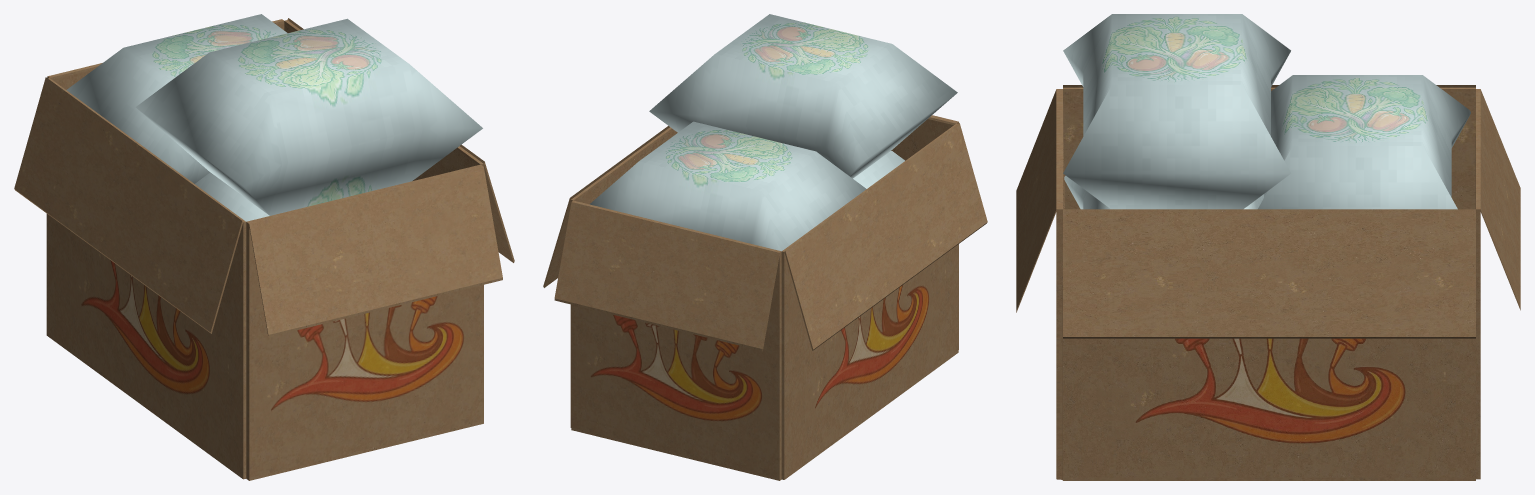
Rendered from LettuceBox.fbx.
3 renders of one model, left to right at view 1: azimuth 30°, elevation 25°; view 2: azimuth 150°, elevation 25°; view 3: azimuth 270°, elevation 25°, orthographic. The views are drawn at different scales.
Parts seen in each view (by area): view 1: Tomato_red.020; view 2: Tomato_red.020; view 3: Tomato_red.020.
Boxes of the visible parts, <box> form: Tomato_red.020: <box>14,14,514,480</box>; Tomato_red.020: <box>543,14,987,480</box>; Tomato_red.020: <box>1016,14,1520,480</box>.
Bounding box in the file's own units: 87.14 × 96.49 × 119.
